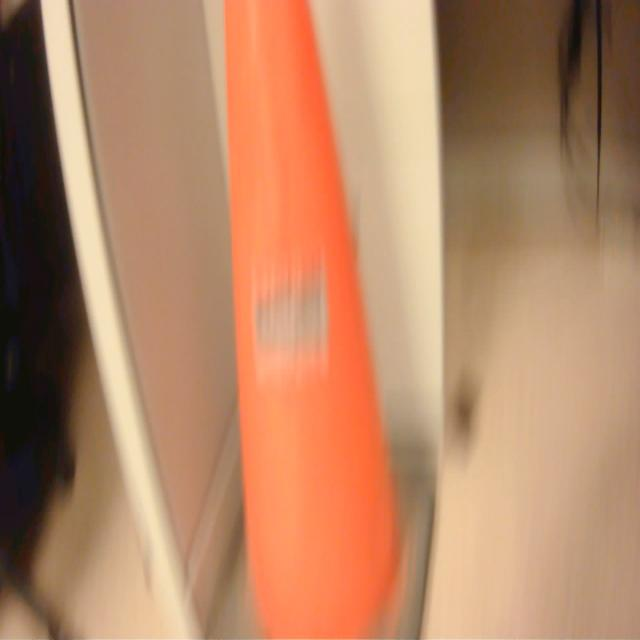traffic cone: (212, 1, 455, 640)
